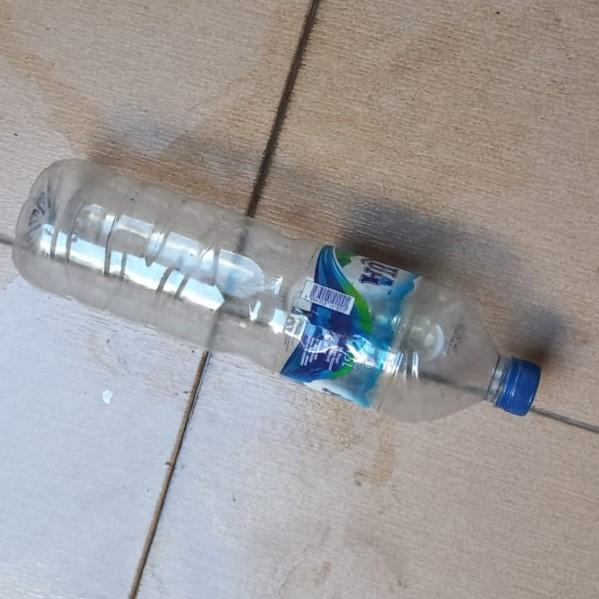Plastik: (12, 159, 542, 427)
